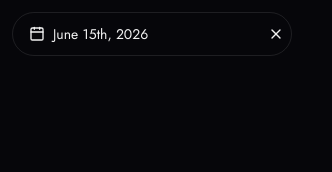
Test: DatePicker › clears the selected date when the clear button is clicked
Click the button named "clear date". click: (276, 34)
box: [268,26,284,42]
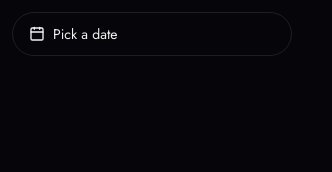
Now the dropdown reads "Pick a date", box [12,12,292,56]
